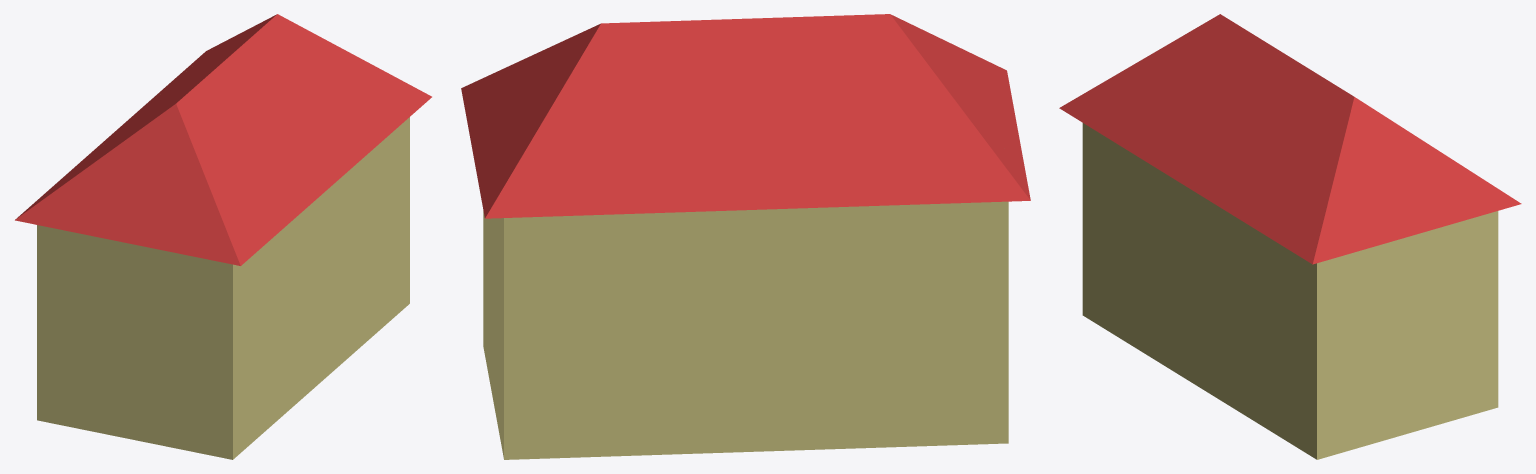
The picture shows the model from 3 angles, left to right: view 1: azimuth 30°, elevation 25°; view 2: azimuth 150°, elevation 25°; view 3: azimuth 270°, elevation 25°; orthographic projection. The views are drawn at different scales.
Parts seen in each view (by area): view 1: group_5, group_3, group_4; view 2: group_5, group_3, group_4; view 3: group_5, group_3, group_4.
Boxes of the visible parts, <box> form: group_5: <box>37,117,409,459</box>; group_3: <box>15,14,430,265</box>; group_4: <box>15,47,431,265</box>; group_5: <box>483,201,1008,459</box>; group_3: <box>461,14,1030,218</box>; group_4: <box>461,71,1030,218</box>; group_5: <box>1082,123,1498,459</box>; group_3: <box>1059,14,1521,264</box>; group_4: <box>1060,93,1372,264</box>.
Size of the model in its own units: 22.6 by 20.37 by 14.91.
